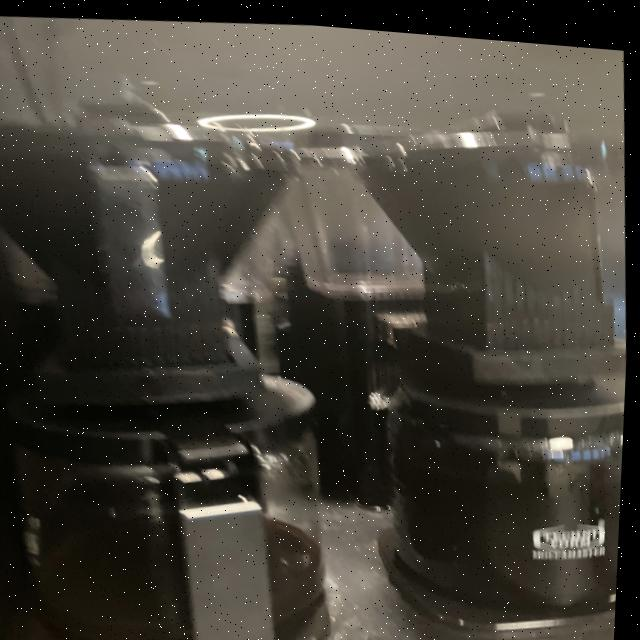coffee: (0, 329, 357, 640), (357, 324, 630, 627)
